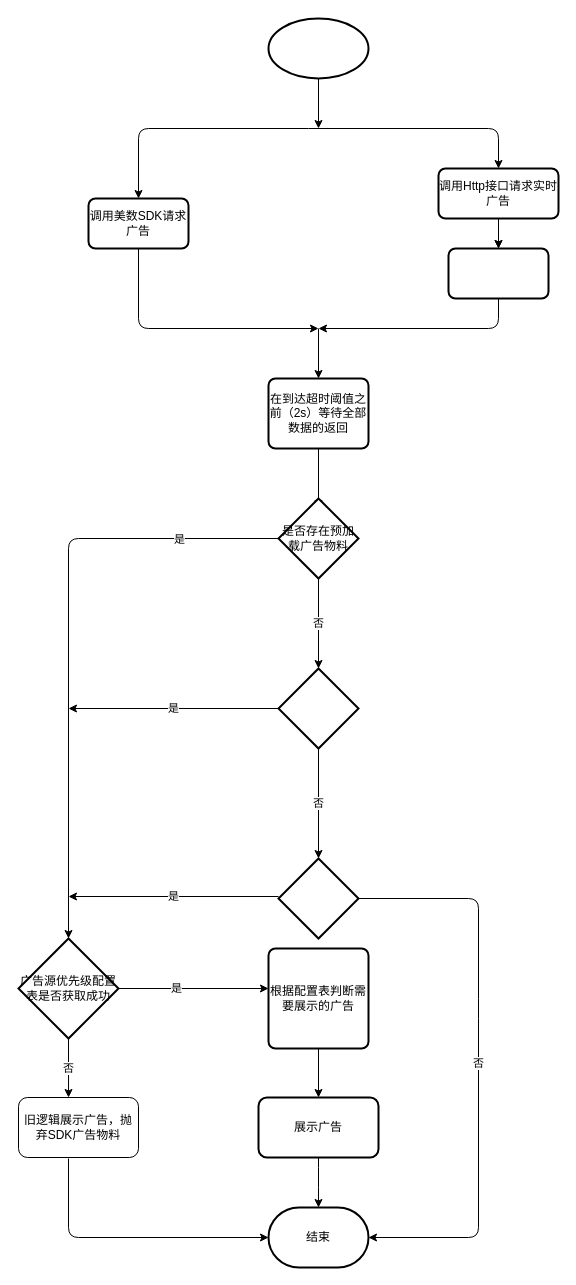
The diagram is 576 pixels wide and 1285 high, and some of its shapes have lost their labels. Each missing label, with the centre of its shape:
"开始" goes at (318,48).
"是否存在SDK广告物料" goes at (318,898).
"是否存在实时广告物料" goes at (318,708).
"调用Http获取广告源优先级配置表" goes at (498,273).
